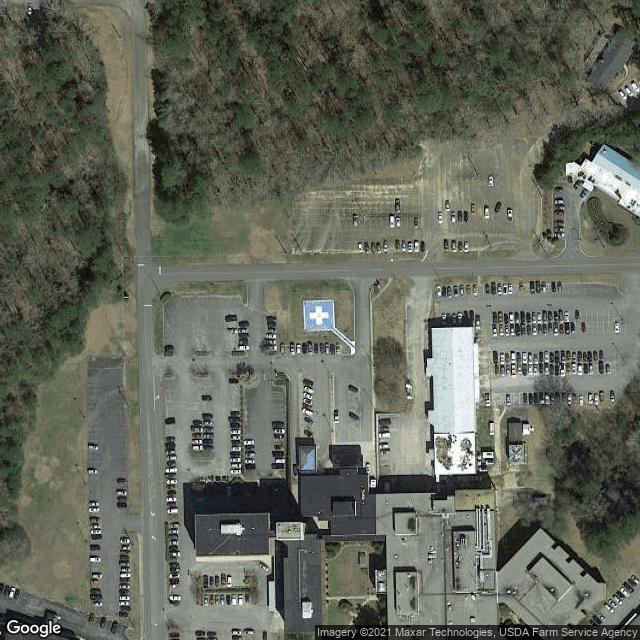Helipad: (300, 297, 338, 333)
